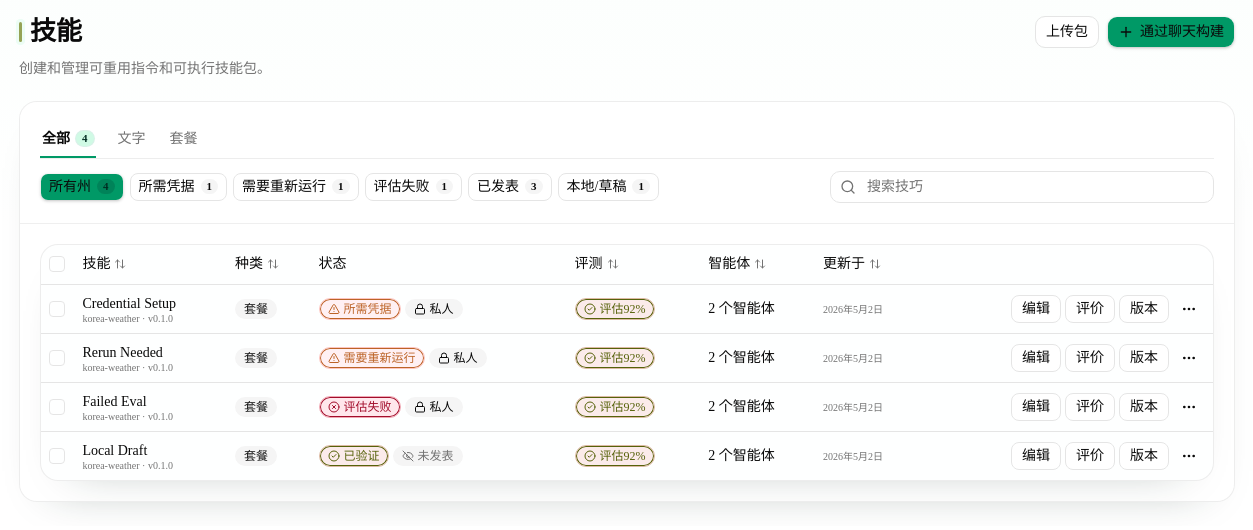
it: SkillsPage › filters skills from compact state chips
The width and height of the screenshot is (1253, 530).
Expected: the button "需要重新运行 1" is shown, [233, 172, 358, 200]
Expected: the button "评估失败 1" is shown, [364, 172, 462, 200]
Click the button "所需凭据 1" at point(178, 186), box [130, 172, 227, 200]
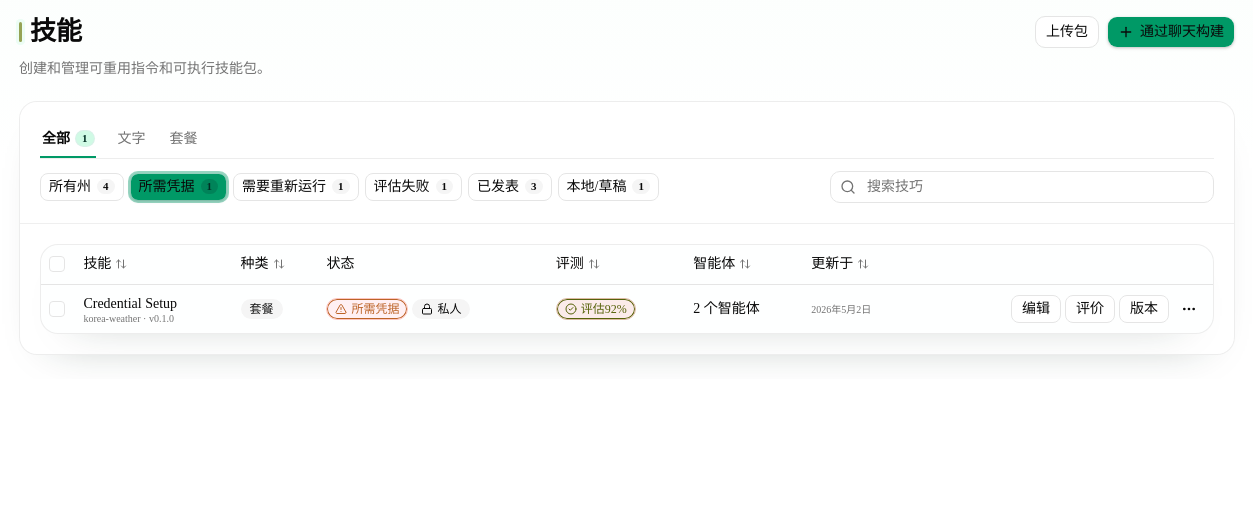
Expected: the text "Rerun Needed" is gone
Expected: the text "Failed Eval" is gone
Expected: the text "Local Draft" is gone
Click the button "本地/草稿 1" at point(608, 186), box [558, 172, 659, 200]
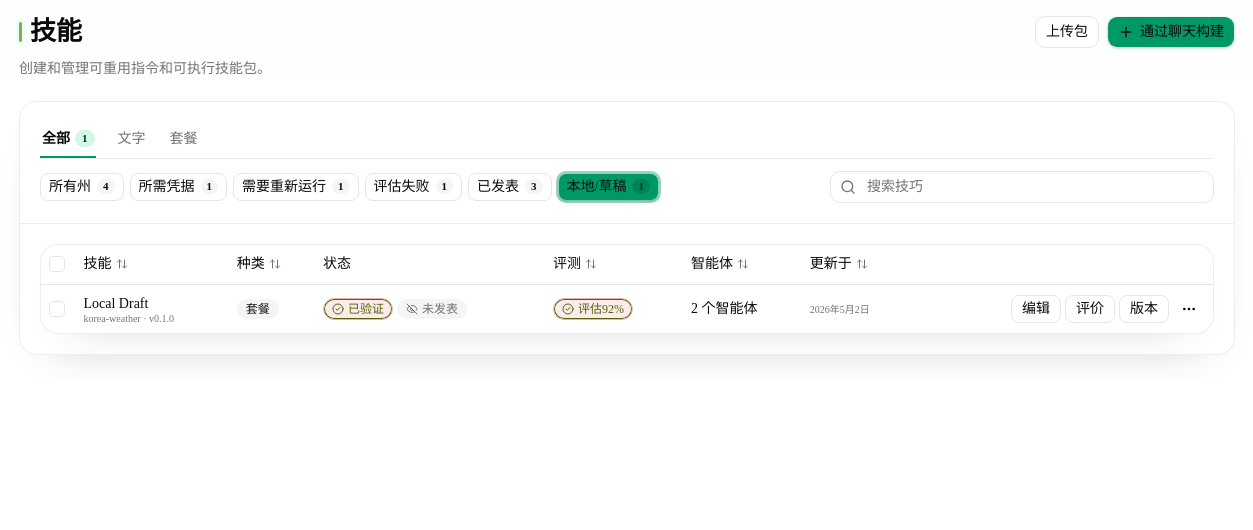
Expected: the text "Local Draft" is shown, [84, 296, 148, 311]
Expected: the text "Credential Setup" is gone
